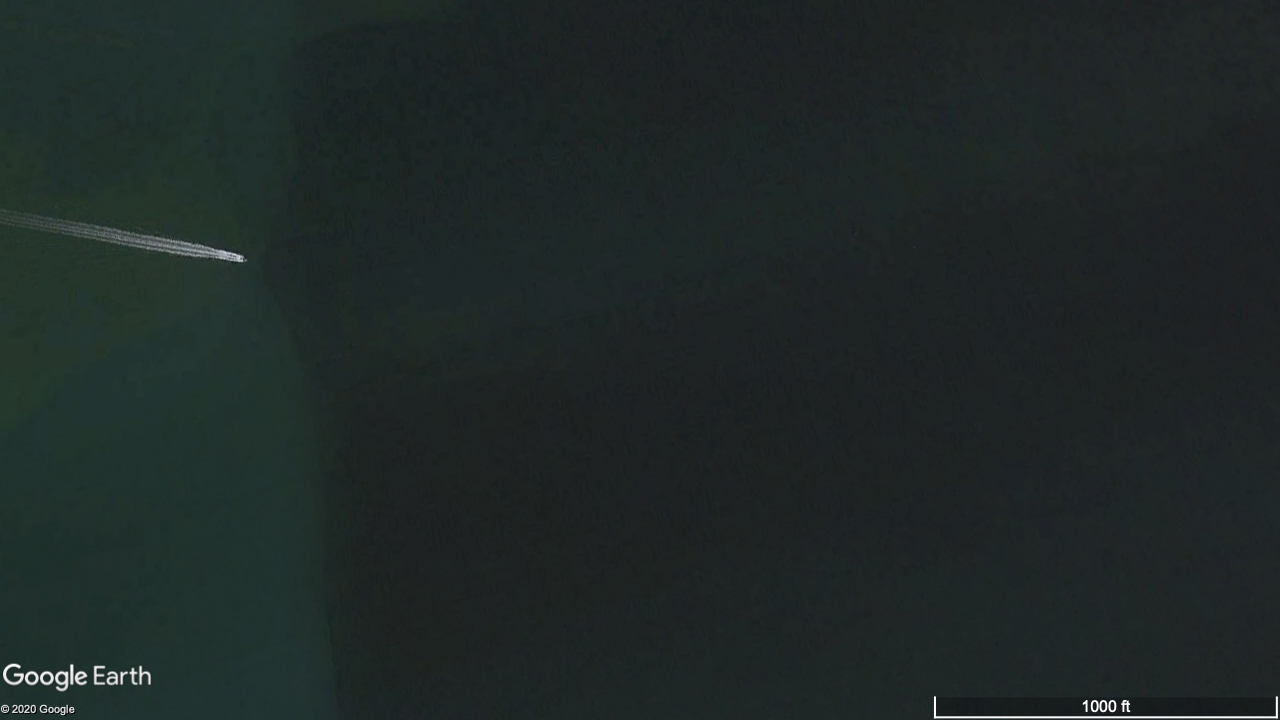boat: (236, 257, 249, 262)
